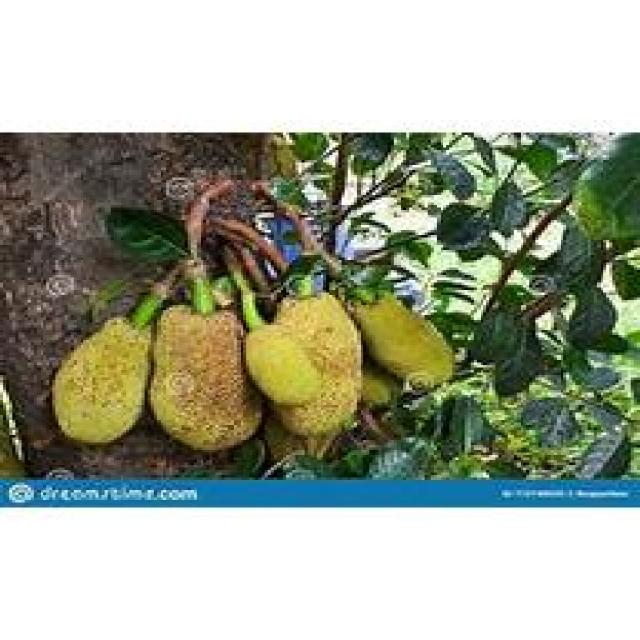Fruit: (228, 275, 443, 467)
